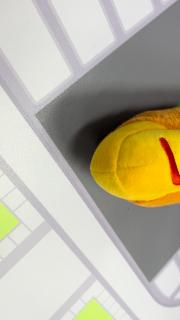hotdog: (89, 106, 179, 208)
